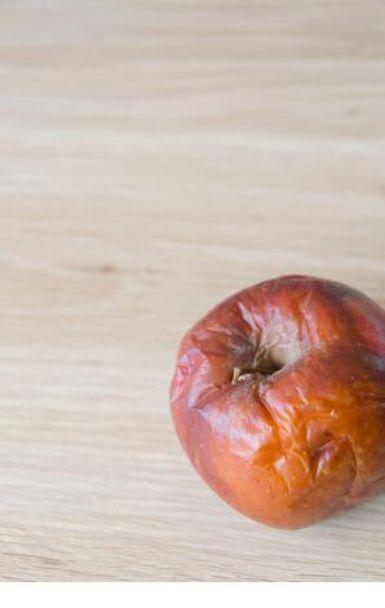ROT: (148, 244, 385, 535)
